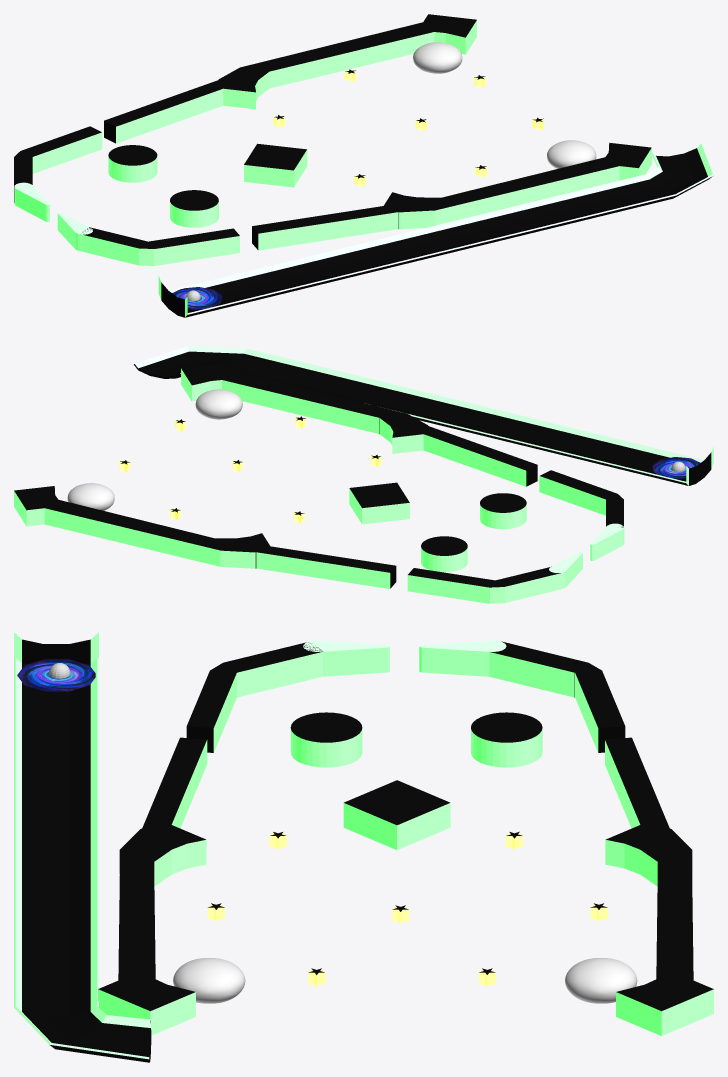
Rendered from inside1Player.glb.
3 renders of one model, top to bottom at view 1: azimuth 30°, elevation 25°; view 2: azimuth 150°, elevation 25°; view 3: azimuth 270°, elevation 25°, orthographic. The views are drawn at different scales.
Visible parts, largest first — view 1: Cilindro, Cubo.004, Cubo.008, Cubo.002, Cubo.010, rombo, Cubo.001, Cubo.011, Cubo, circular L, circular R, Cubo.009 (+9 smaller); view 2: Cilindro, Cubo.008, Cubo.004, Cubo.010, Cubo.002, Cubo.011, rombo, Cubo.001, Cubo.006, circular R, circular L, Cubo.003 (+9 smaller); view 3: Cilindro, rombo, Cubo.004, Cubo.008, Cubo.007, Cubo.005, circular R, circular L, Cubo.002, Cubo, Cubo.010, Cubo.006 (+9 smaller).
Part boxes in pixels (x1=…): Cilindro: x1=158, y1=143, x2=713, y2=317; Cubo.004: x1=425, y1=156, x2=621, y2=225; Cubo.008: x1=241, y1=22, x2=434, y2=88; Cubo.002: x1=252, y1=205, x2=404, y2=250; Cubo.010: x1=104, y1=78, x2=234, y2=143; rombo: x1=244, y1=143, x2=307, y2=187; Cubo.001: x1=148, y1=228, x2=239, y2=265; Cubo.011: x1=20, y1=126, x2=102, y2=173; Cubo: x1=81, y1=227, x2=162, y2=265; circular L: x1=108, y1=145, x2=157, y2=182; circular R: x1=170, y1=190, x2=218, y2=227; Cubo.009: x1=215, y1=67, x2=269, y2=109; Cilindro: x1=134, y1=346, x2=713, y2=485; Cubo.008: x1=42, y1=498, x2=231, y2=566; Cubo.004: x1=218, y1=370, x2=406, y2=433; Cubo.010: x1=256, y1=546, x2=396, y2=588; Cubo.002: x1=413, y1=424, x2=537, y2=486; Cubo.011: x1=407, y1=568, x2=495, y2=603; rombo: x1=349, y1=482, x2=409, y2=524; Cubo.001: x1=539, y1=470, x2=617, y2=515; Cubo.006: x1=490, y1=566, x2=561, y2=603; circular R: x1=480, y1=493, x2=526, y2=529; circular L: x1=421, y1=536, x2=467, y2=572; Cubo.003: x1=379, y1=414, x2=431, y2=453; Cilindro: x1=14, y1=632, x2=151, y2=1062; rombo: x1=343, y1=780, x2=450, y2=849; Cubo.004: x1=118, y1=849, x2=155, y2=982; Cubo.008: x1=656, y1=849, x2=693, y2=982; Cubo.007: x1=616, y1=970, x2=713, y2=1035; Cubo.005: x1=98, y1=979, x2=195, y2=1035; circular R: x1=290, y1=712, x2=362, y2=767; circular L: x1=471, y1=712, x2=542, y2=767; Cubo.002: x1=140, y1=737, x2=207, y2=834; Cubo: x1=209, y1=642, x2=322, y2=697; Cubo.010: x1=605, y1=737, x2=671, y2=833; Cubo.006: x1=489, y1=641, x2=601, y2=697.
Bounding box in the file's own units: 69.95 × 3.55 × 50.92.
Materials: 5 (1 with a texture image).
